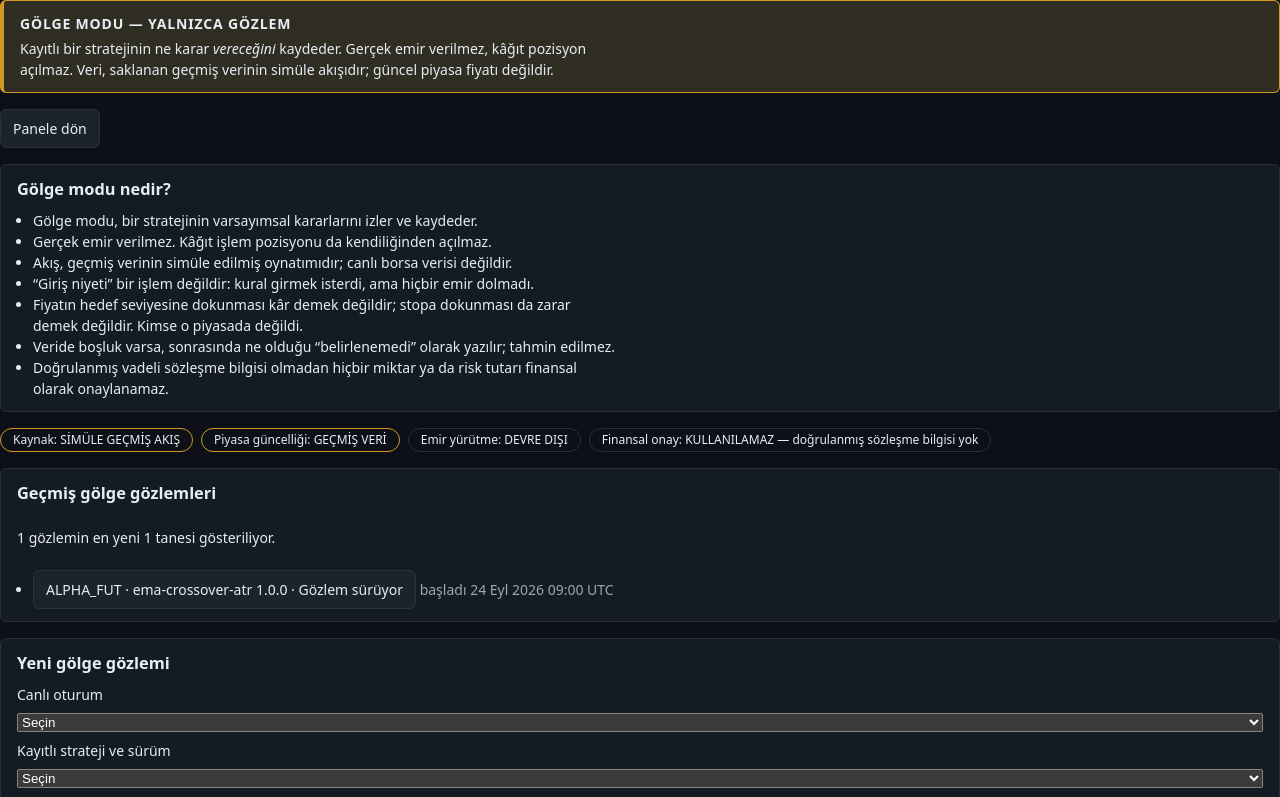
a run, its decisions and what came after › says a pending outcome is pending while the run observes
This screenshot has width=1280, height=797.
Click the button "ALPHA_FUT · ema-crossover-atr 1.0.0 · Gözlem sürüyor".
click(224, 590)  # box [33,570,416,609]
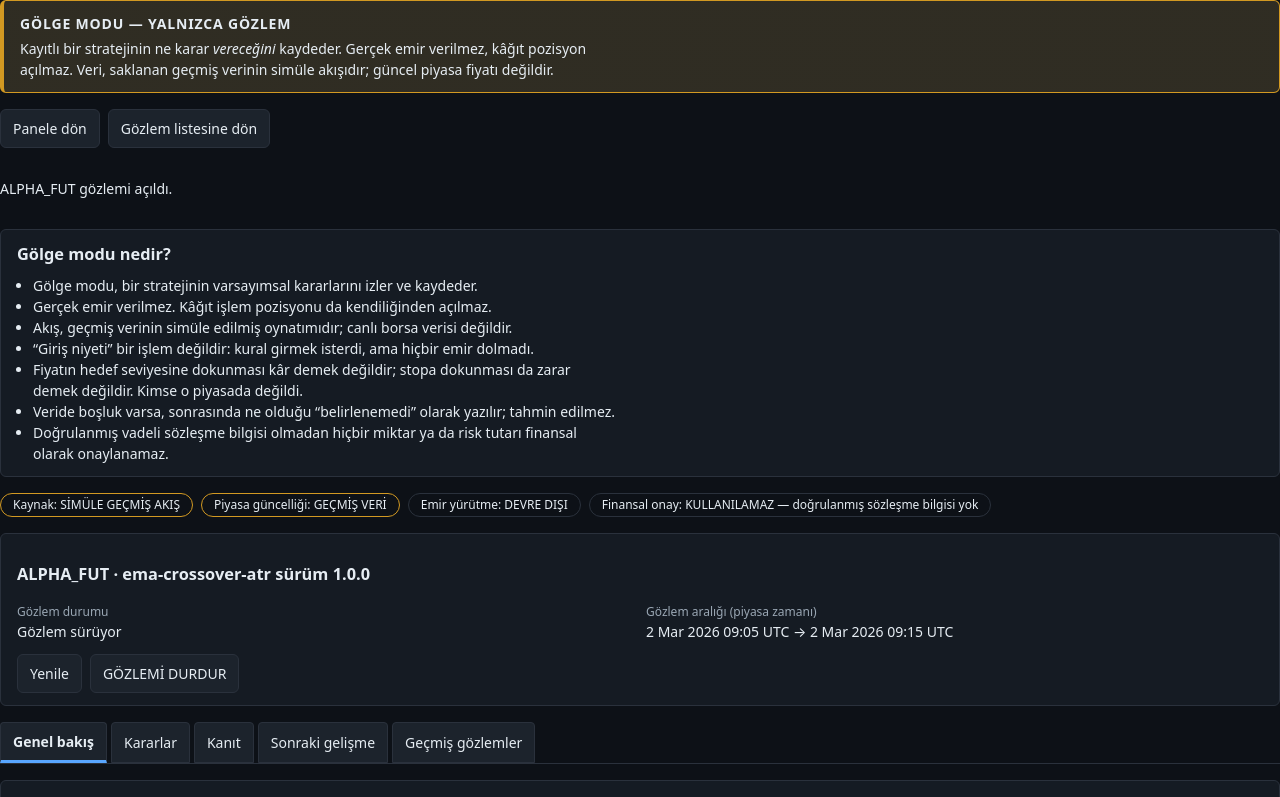
Expected: the element named "Gölge gözlemi bölümleri" is shown, [0,722,1279,764]
Click the tab "Kararlar".
click(150, 742)  # box [111,722,190,763]
(page scrolled)
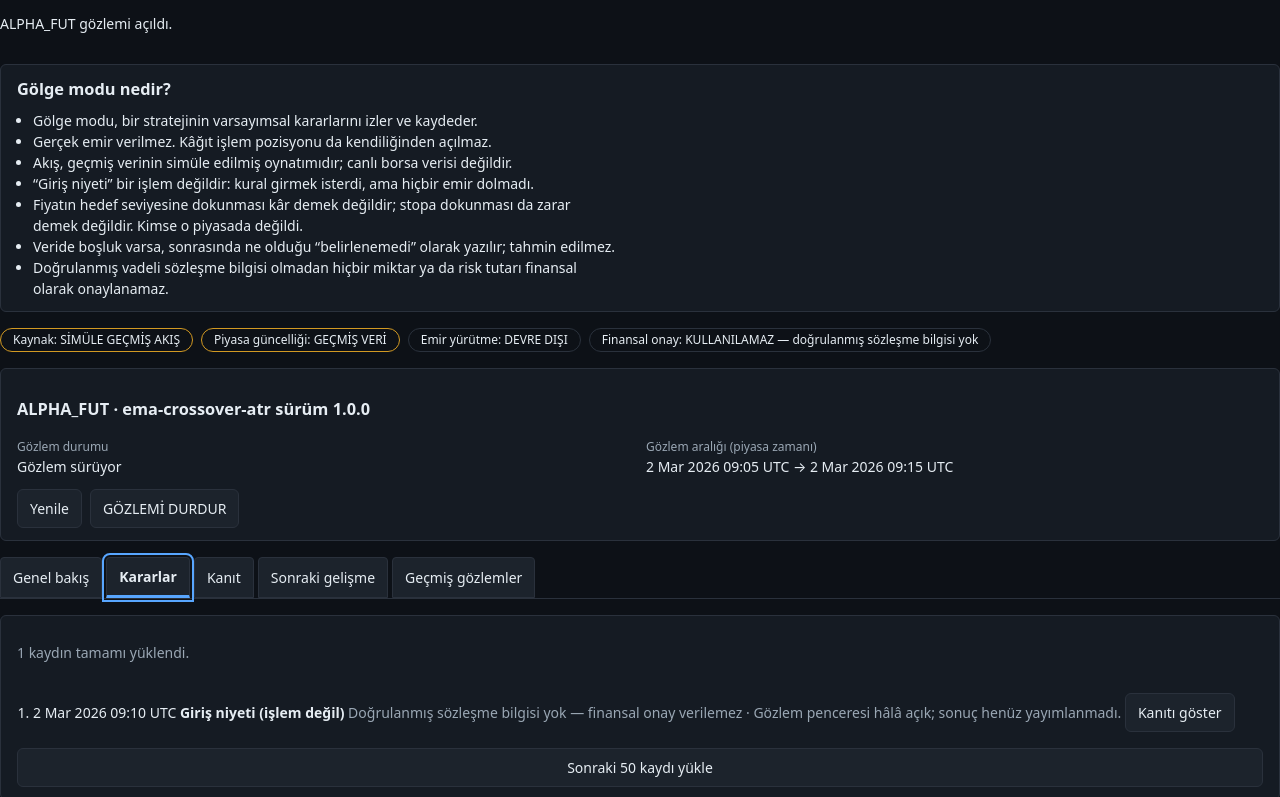
Expected: the text "· Gözlem penceresi hâlâ açık; sonuç henüz yayımlanmadı." is shown, [742,703,1121,722]
